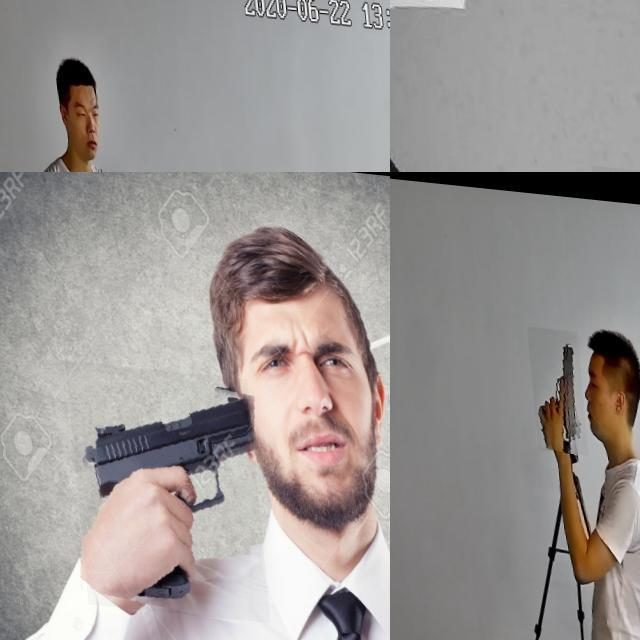gun-knife-thesis - v11 Yolov5 augmented: (61, 358, 261, 618), (525, 321, 584, 449)
